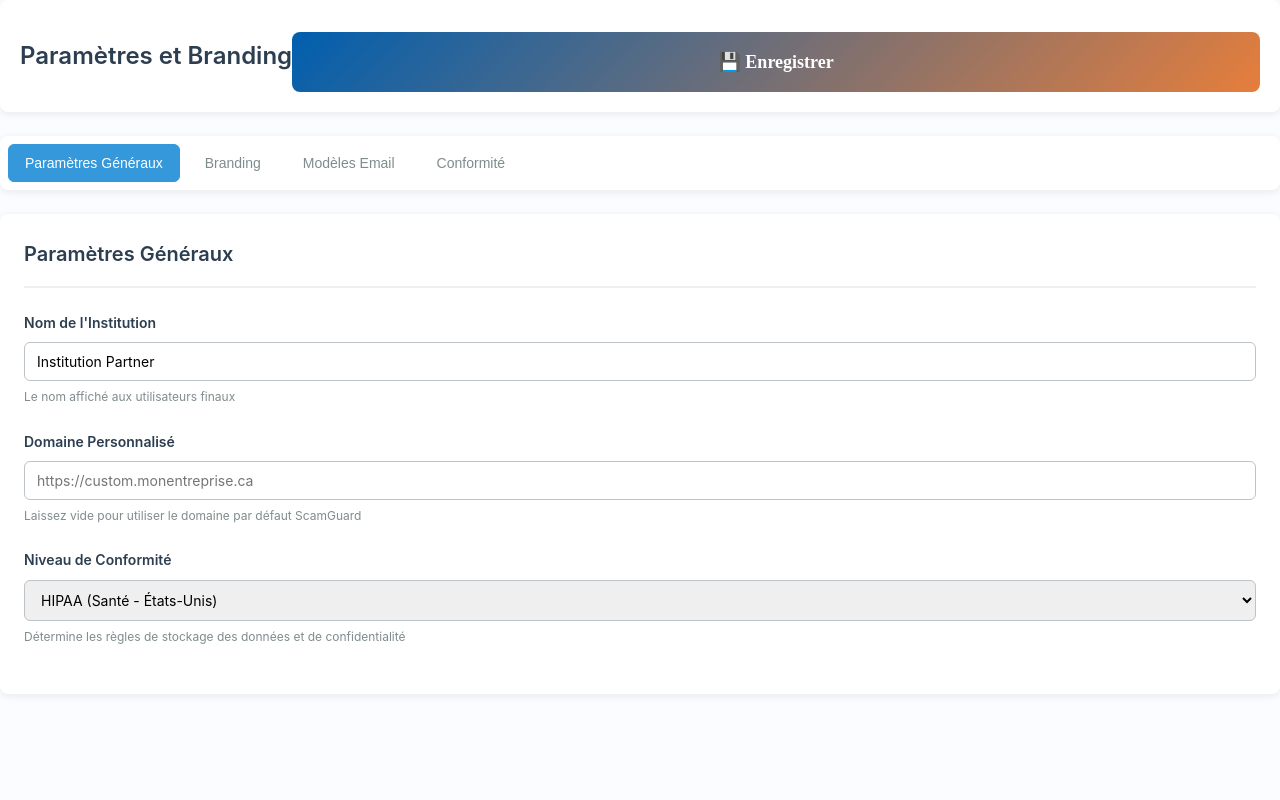
it: SettingsBranding Module › Tab Navigation › should switch to email templates tab
Click the button "Modèles Email". click: (349, 163)
box: [286,144,412,182]
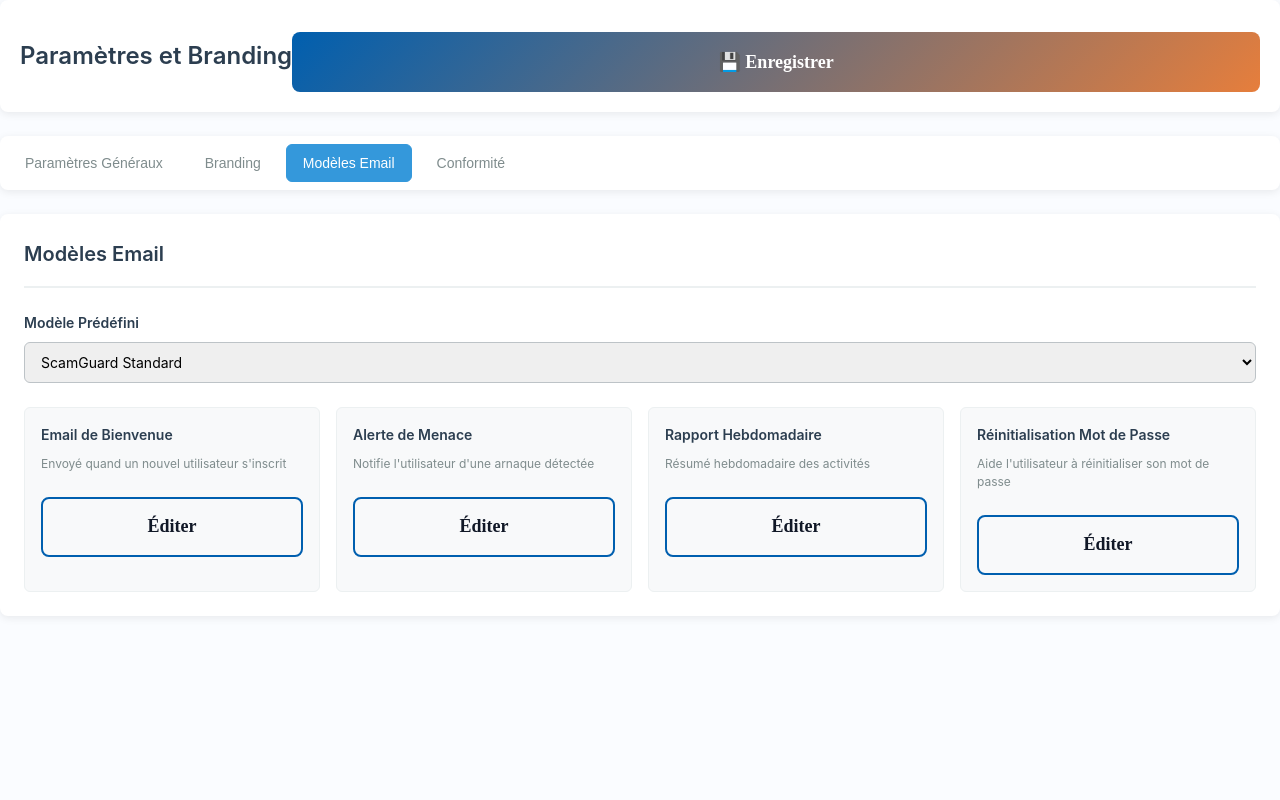
Check: the heading "Modèles Email" is shown, box [24,238,1256,288]
